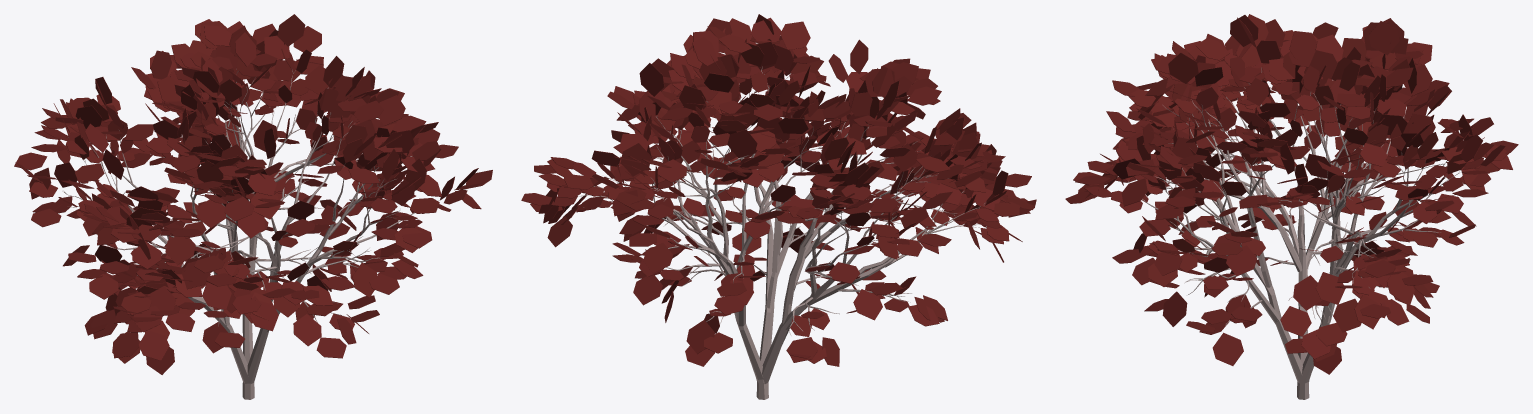
File: lvl1_tree3_total.glb
The picture shows the model from 3 angles, left to right: view 1: azimuth 30°, elevation 25°; view 2: azimuth 150°, elevation 25°; view 3: azimuth 270°, elevation 25°; orthographic projection.
Parts seen in each view (by area): view 1: tree without motion.001; view 2: tree without motion.001; view 3: tree without motion.001.
Part boxes in pixels (bbox=[...]): tree without motion.001: bbox=[14, 14, 492, 399]; tree without motion.001: bbox=[521, 14, 1036, 399]; tree without motion.001: bbox=[1065, 14, 1518, 399].
Bounding box in the file's own units: 27.26 × 21.61 × 25.76.
1 material, 1 textured.
